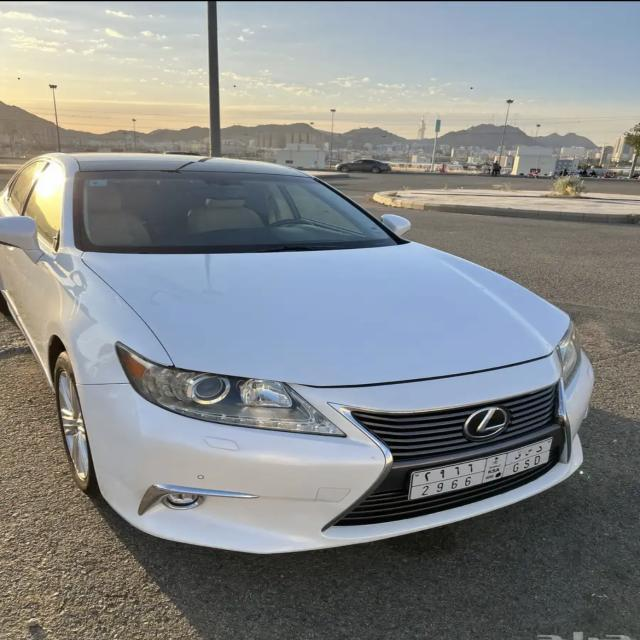license_plate: (412, 441, 554, 499)
